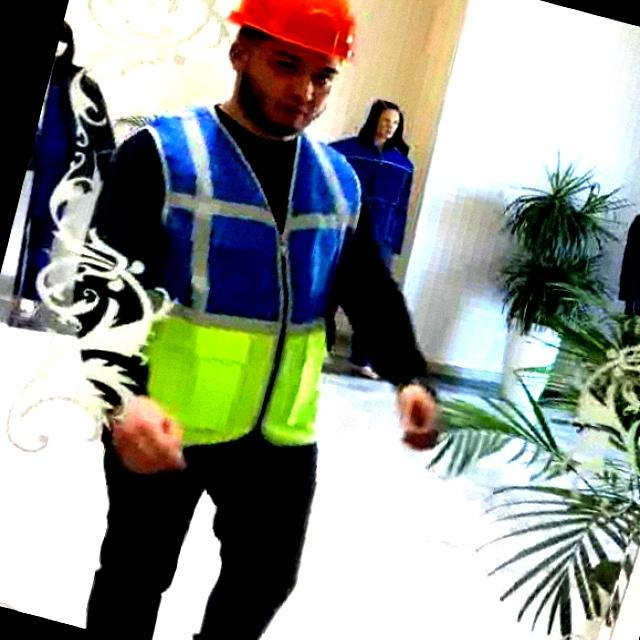Capacete: (228, 0, 354, 59)
Colete: (146, 108, 359, 445)
Pessoa: (87, 0, 438, 639), (331, 100, 413, 269)
